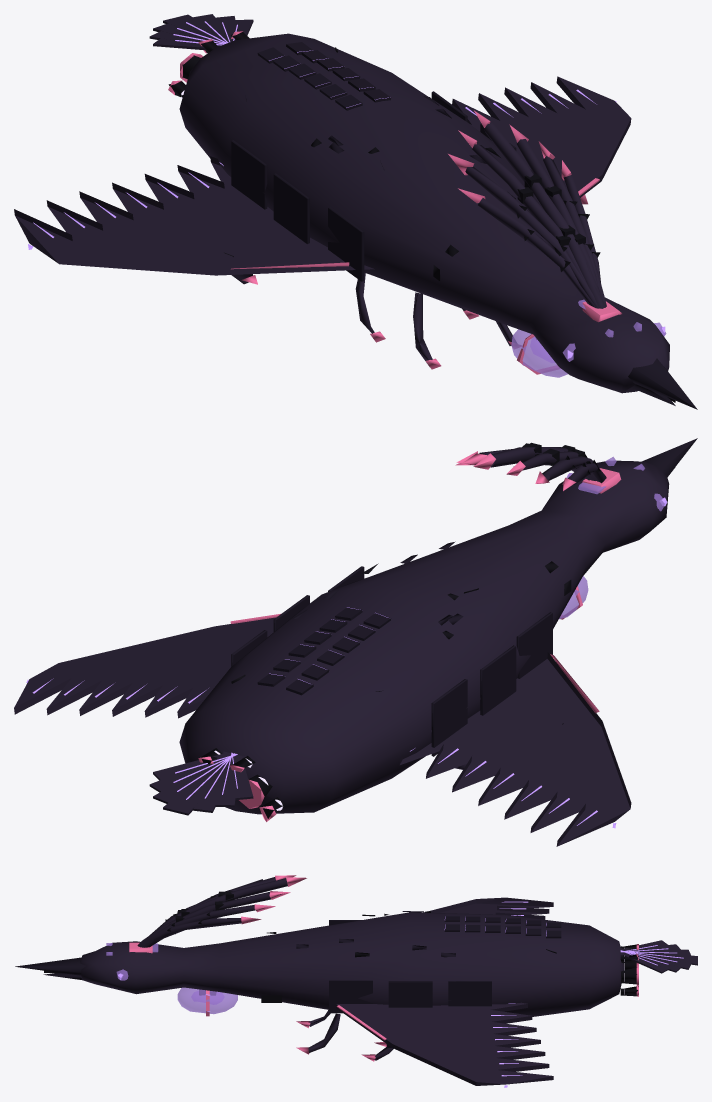
Rendered from choral-piesniarze-hawk-2-lod1.glb.
3 renders of one model, top to bottom at view 1: azimuth 30°, elevation 25°; view 2: azimuth 150°, elevation 25°; view 3: azimuth 270°, elevation 25°, orthographic. The views are drawn at different scales.
Size of the model in its own units: 62.73 by 26.39 by 96.36.
